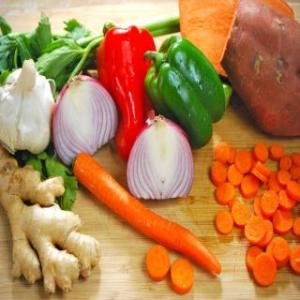bell_pepper: (144, 29, 226, 147), (96, 16, 152, 168)
carrot: (68, 150, 220, 276), (214, 144, 300, 292)
garlic: (0, 67, 52, 157)
onion: (125, 113, 194, 203), (52, 75, 118, 169)
potato: (222, 0, 300, 136)
